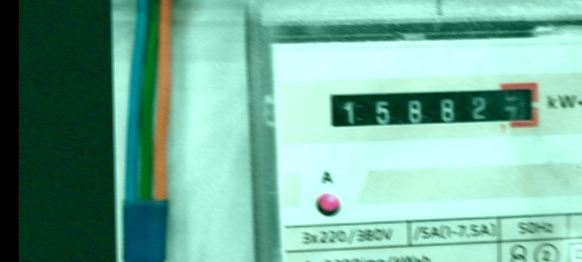1: (345, 96, 358, 125)
2: (472, 94, 489, 120)
5: (376, 97, 393, 127)
7: (505, 102, 518, 119)
8: (408, 96, 424, 125), (441, 94, 457, 123)
screen: (320, 73, 548, 138)
